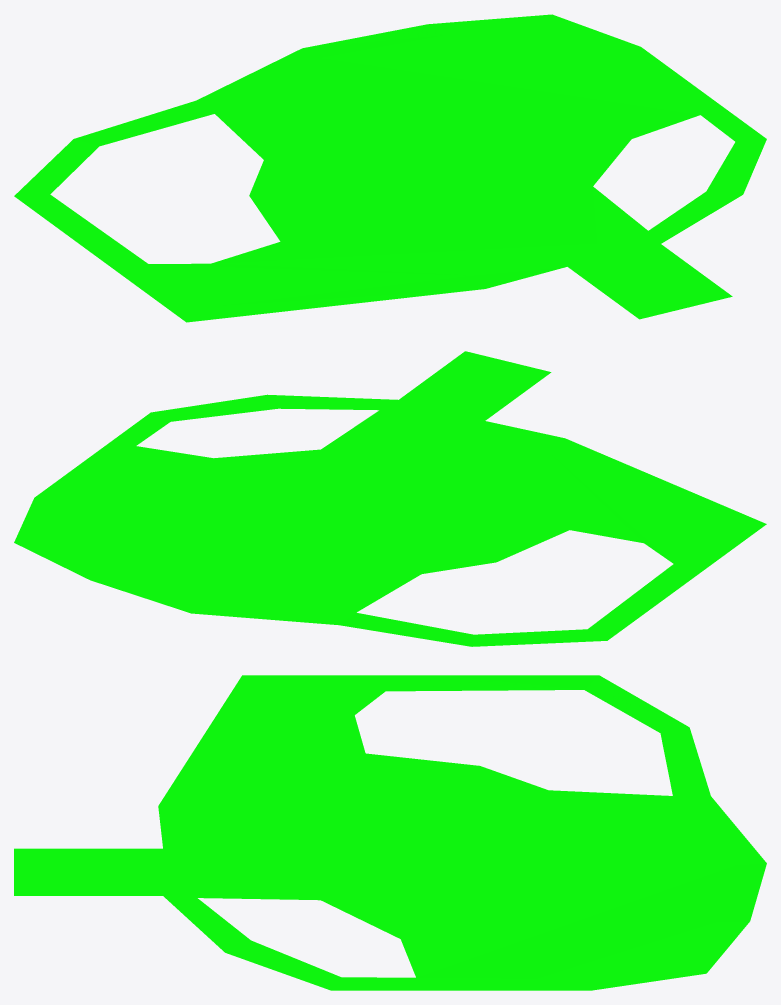
Rendered from s04a_na1-floor.glb.
3 views of the same model, one above another, from view 1: azimuth 30°, elevation 25°; view 2: azimuth 150°, elevation 25°; view 3: azimuth 270°, elevation 25° (orthographic). The views are drawn at different scales.
Parts seen in each view (by area): view 1: collision_floor-colonly; view 2: collision_floor-colonly; view 3: collision_floor-colonly.
Part boxes in pixels (left/top/right/bottom): collision_floor-colonly: left=14, top=14, right=766, bottom=322; collision_floor-colonly: left=14, top=351, right=766, bottom=646; collision_floor-colonly: left=14, top=675, right=766, bottom=990.
Bounding box in the file's own units: 40 × 0.0938 × 40.39.
